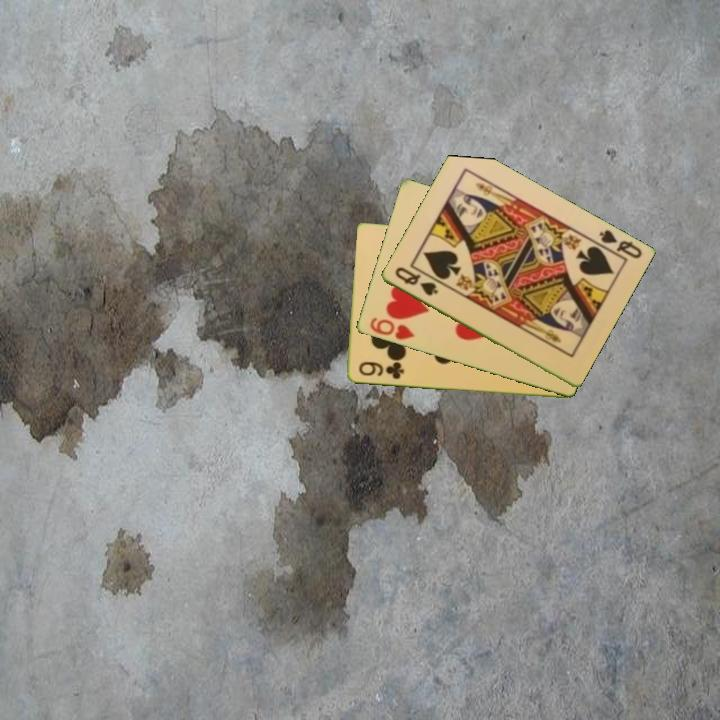6h: (366, 314, 417, 343)
9c: (355, 358, 407, 382)
Qs: (391, 263, 441, 299), (595, 226, 645, 262)
